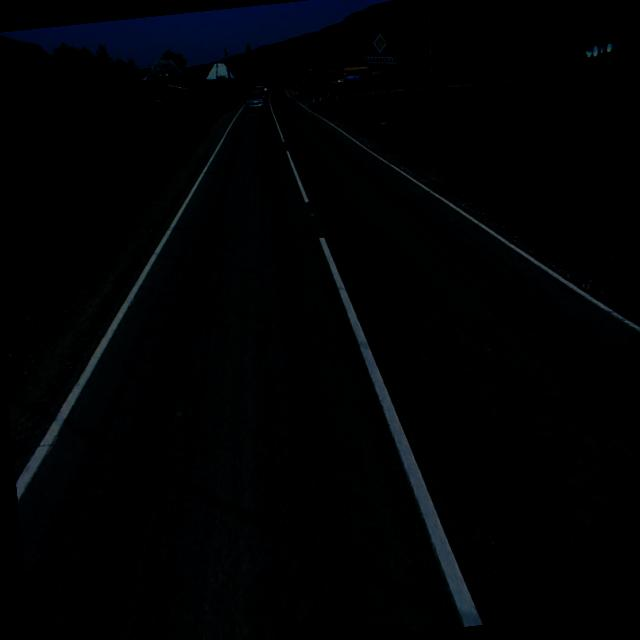road: (13, 90, 640, 640)
